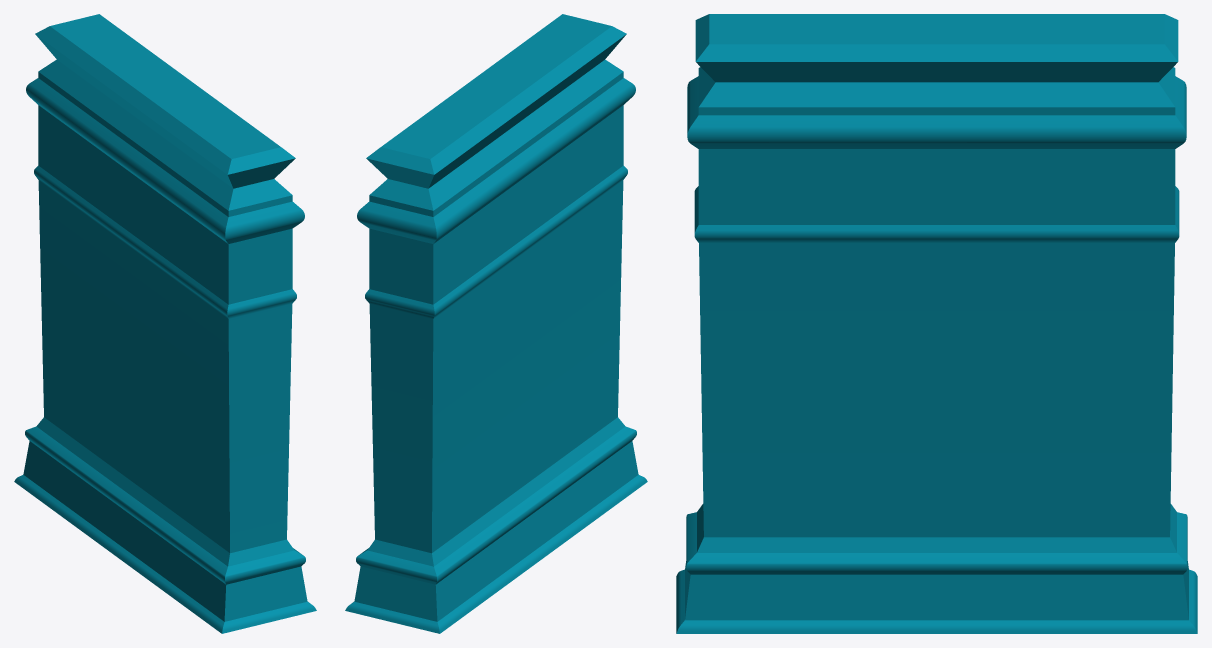
File: Intersection2.fbx
3 renders of one model, left to right at view 1: azimuth 30°, elevation 25°; view 2: azimuth 150°, elevation 25°; view 3: azimuth 270°, elevation 25°, orthographic. The views are drawn at different scales.
Parts seen in each view (by area): view 1: pasted__pasted__pasted__pasted__Intersection1; view 2: pasted__pasted__pasted__pasted__Intersection1; view 3: pasted__pasted__pasted__pasted__Intersection1.
Boxes of the visible parts, box(x1,y1,x2,y2) form: pasted__pasted__pasted__pasted__Intersection1: box(14, 14, 316, 633); pasted__pasted__pasted__pasted__Intersection1: box(345, 14, 647, 633); pasted__pasted__pasted__pasted__Intersection1: box(676, 14, 1197, 633).
Size of the model in its own units: 49.57 by 230 by 188.
